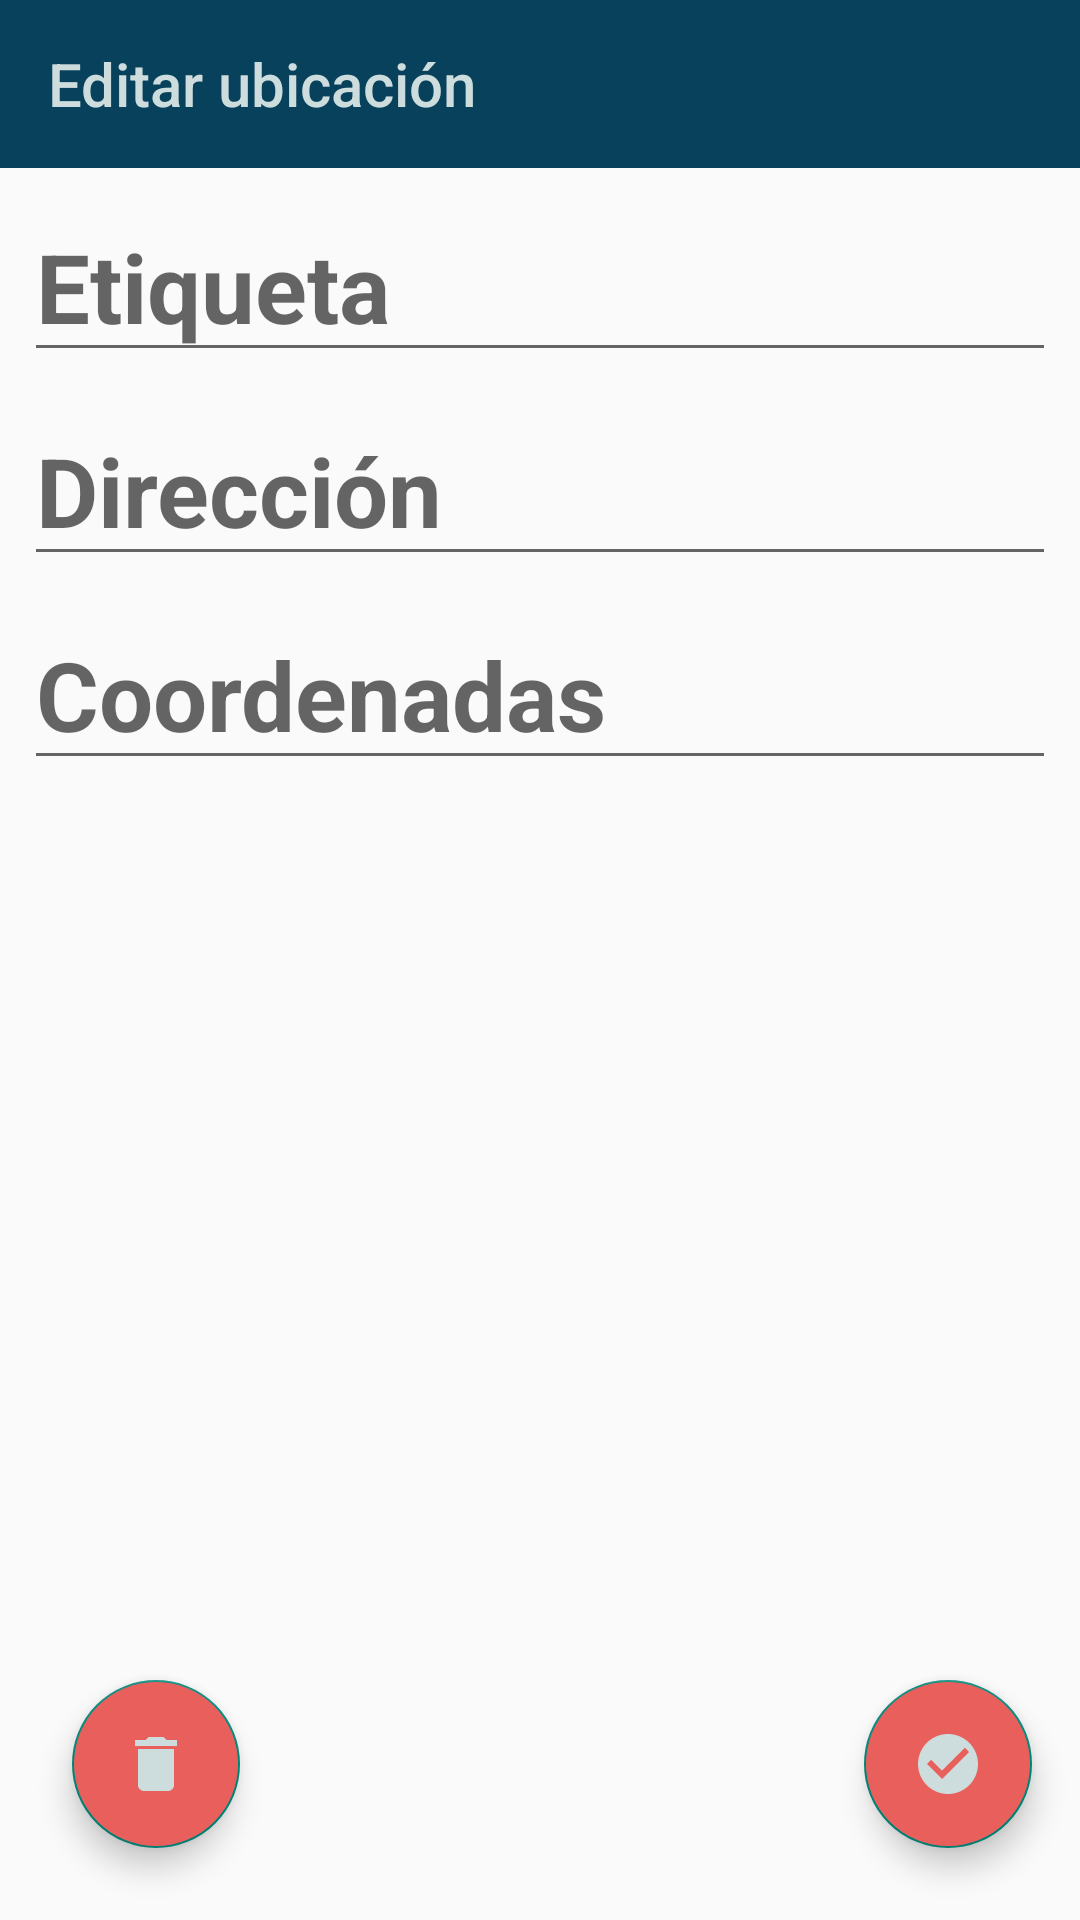

Point at icon controls on the screen. Image size 1080px x 1920px, points as point (x, y).
Elimina la ubicación actual: point (156, 1764)
Termina la edición y guarda los cambios: point (948, 1764)
